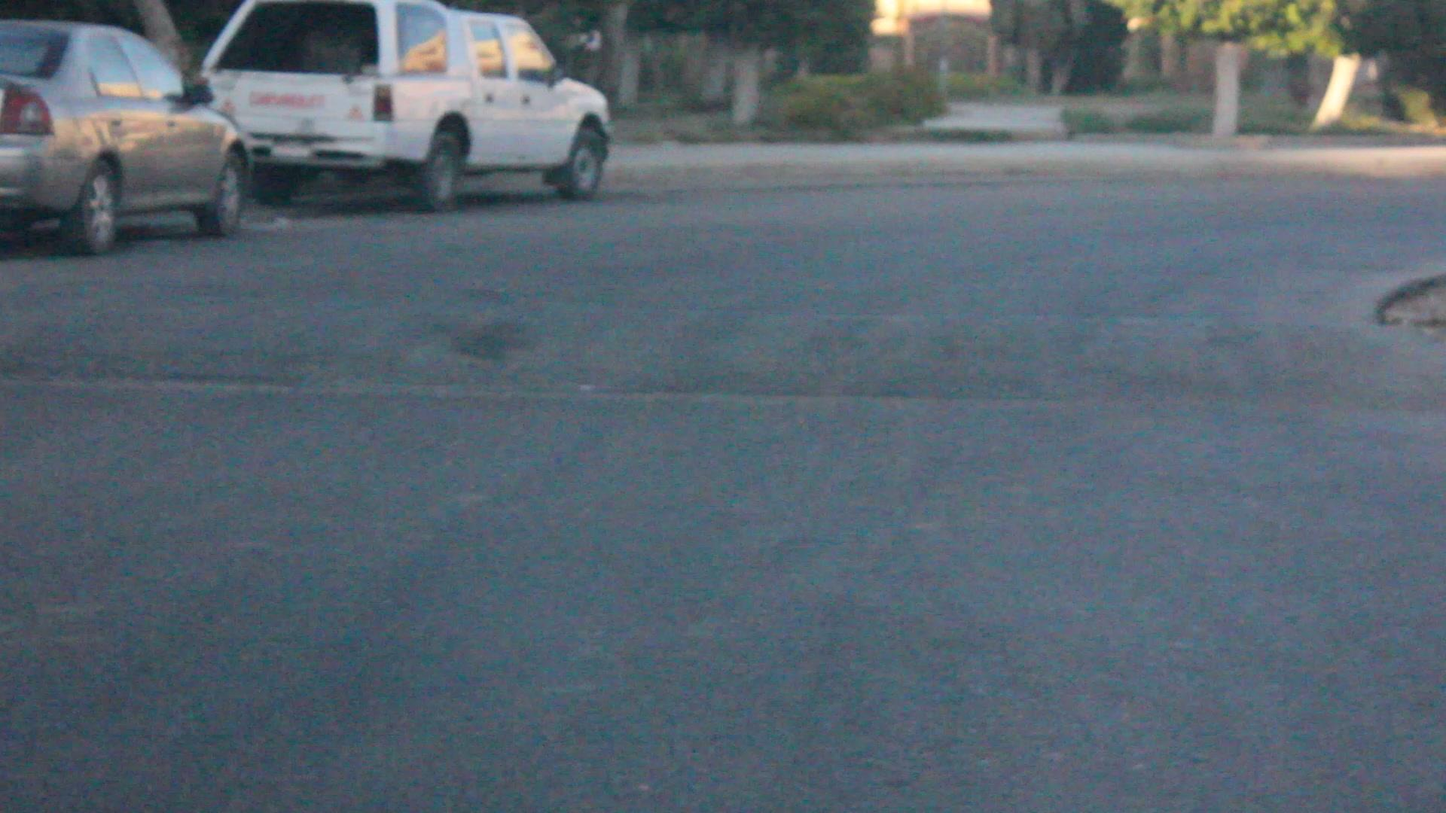Bump: (9, 265, 1446, 433)
